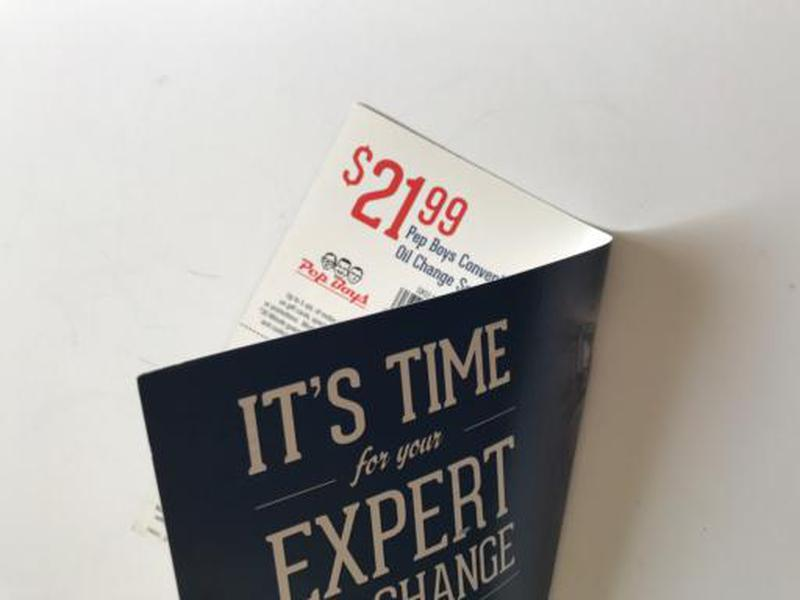paper: (114, 94, 618, 600)
